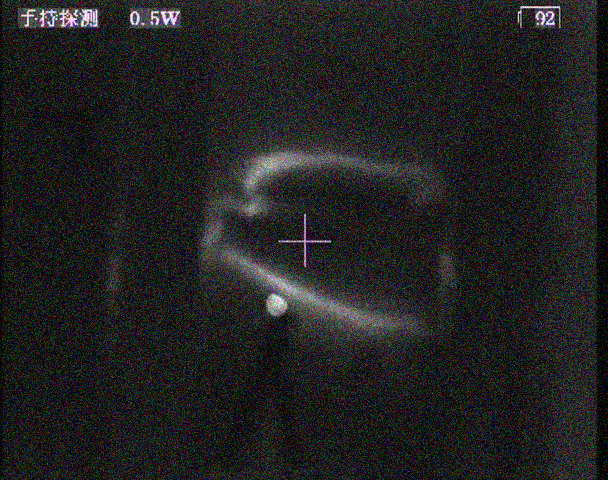my: (263, 293, 288, 316)
